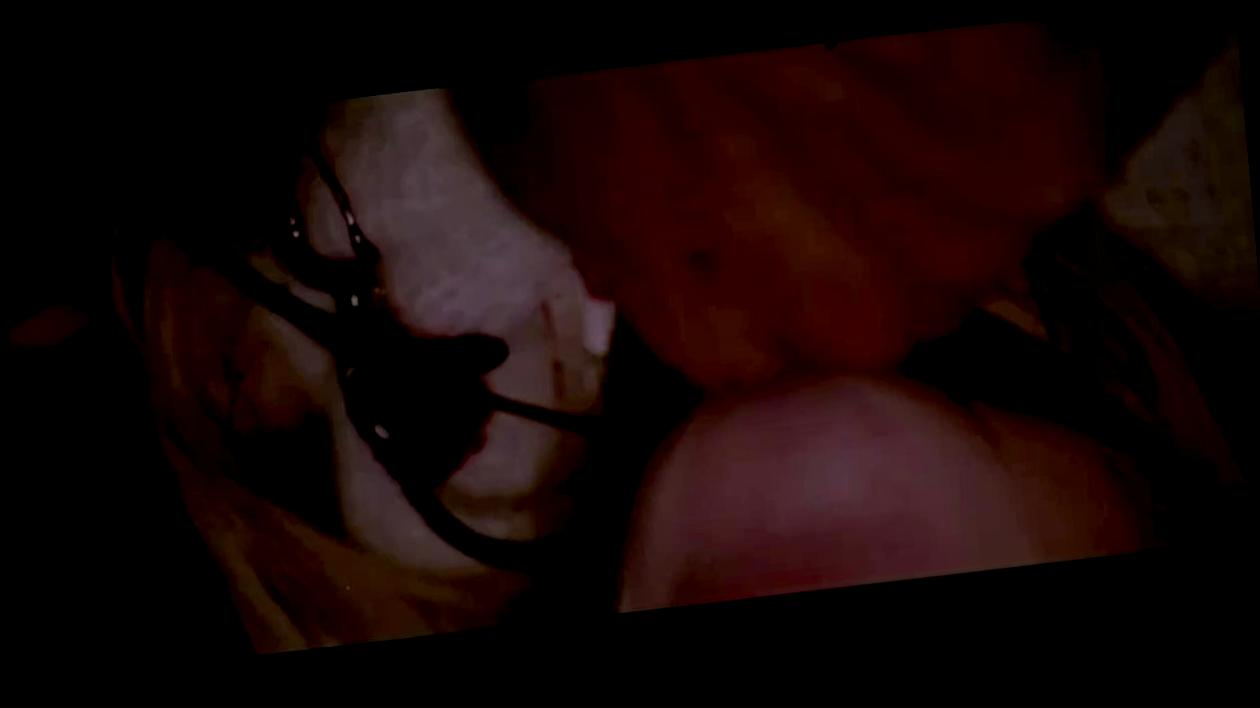Fire: (138, 133, 612, 575)
